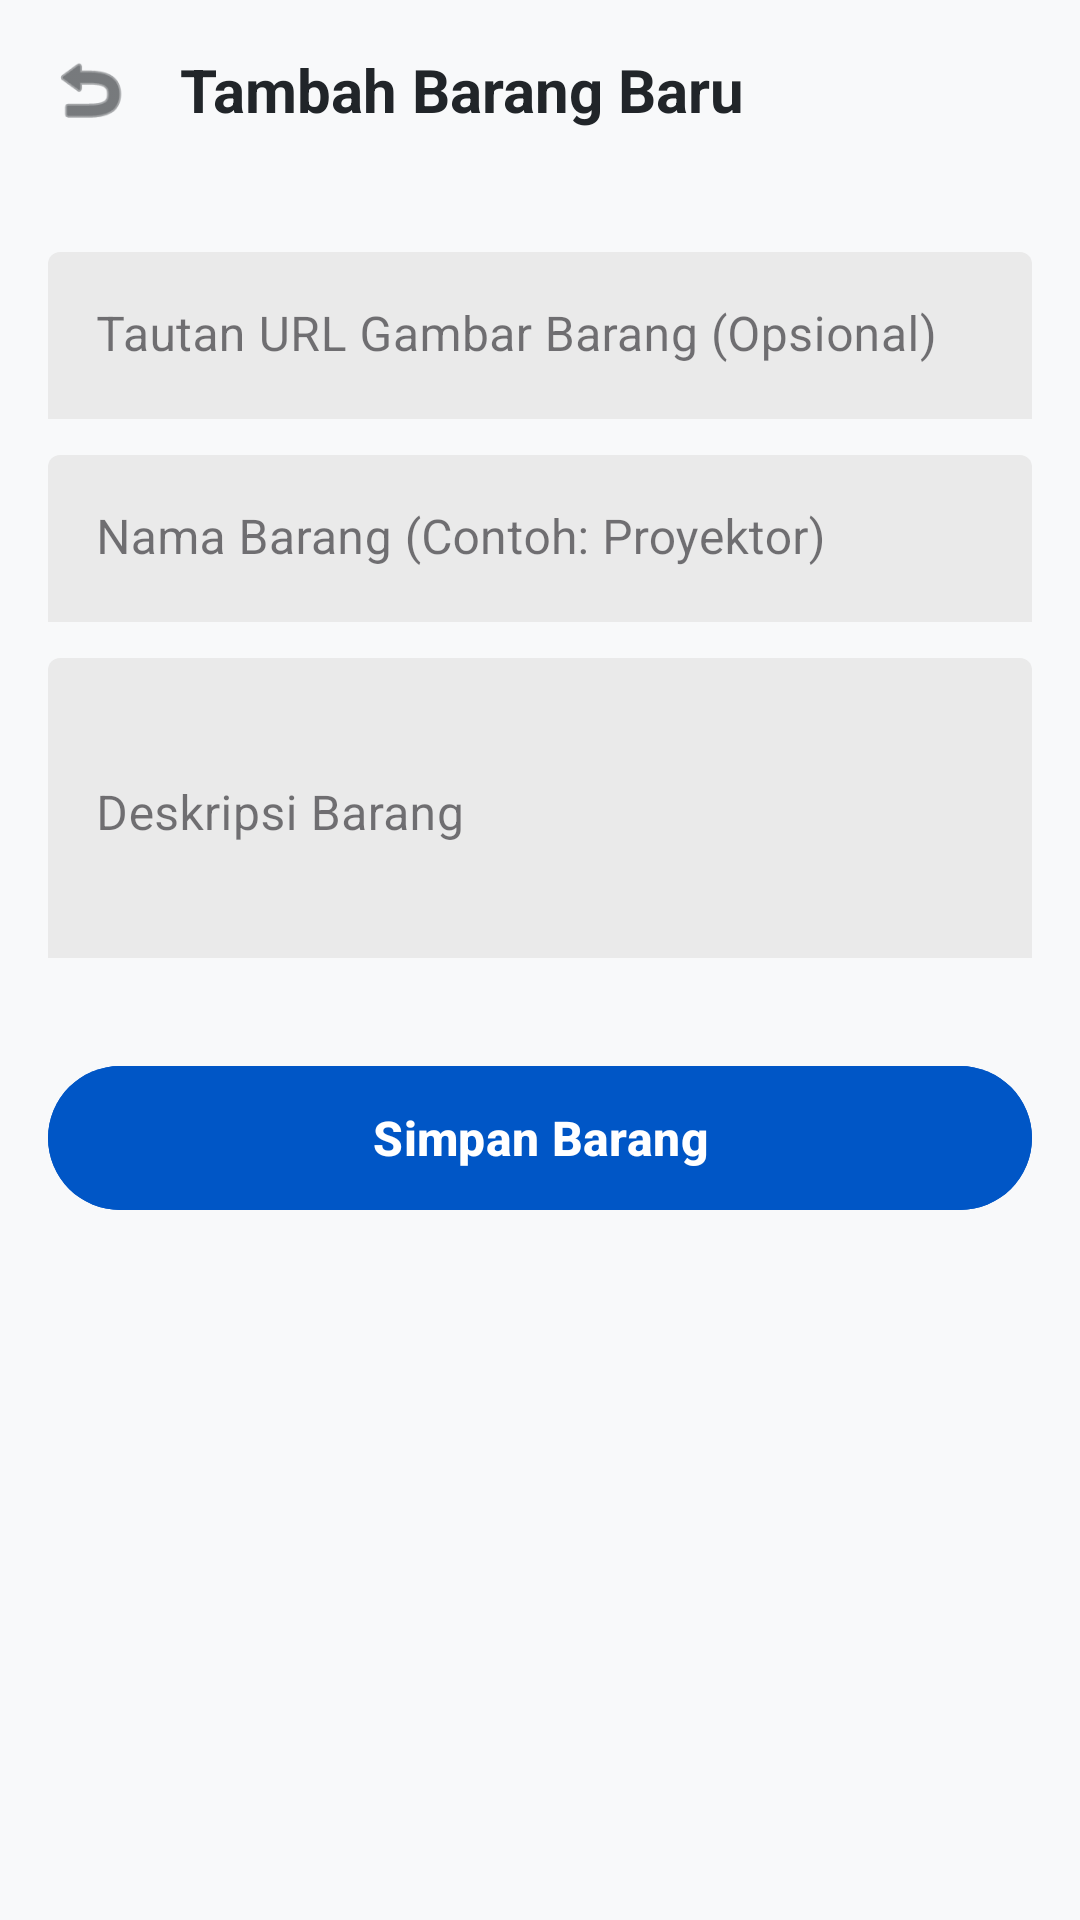

Icons on this 1080*1920 Android screen, each with the point to tap as (x,y):
revert: (91,90)
